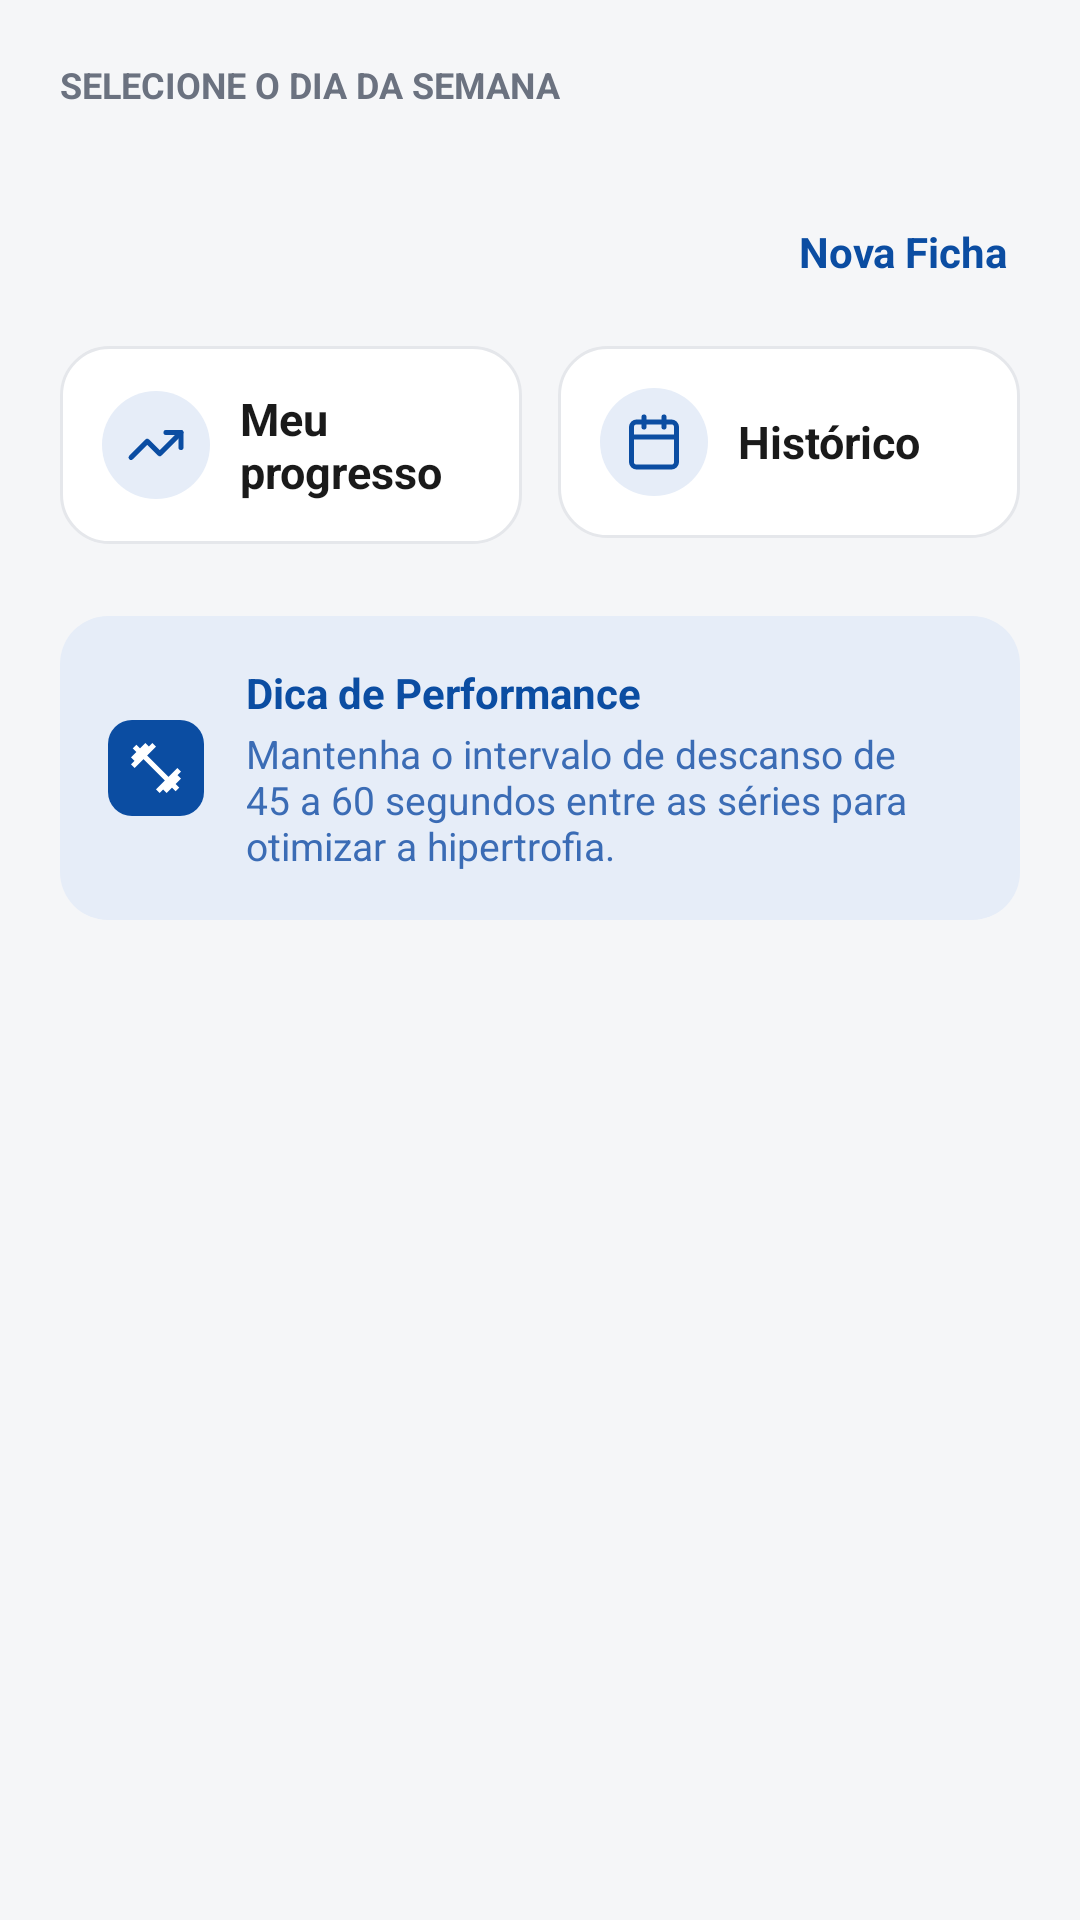

Point at icon controls on the screen. Image size 1080 × 1920, points as [x,y].
calendario contorno: [654,442]
grafico contorno: [156,445]
